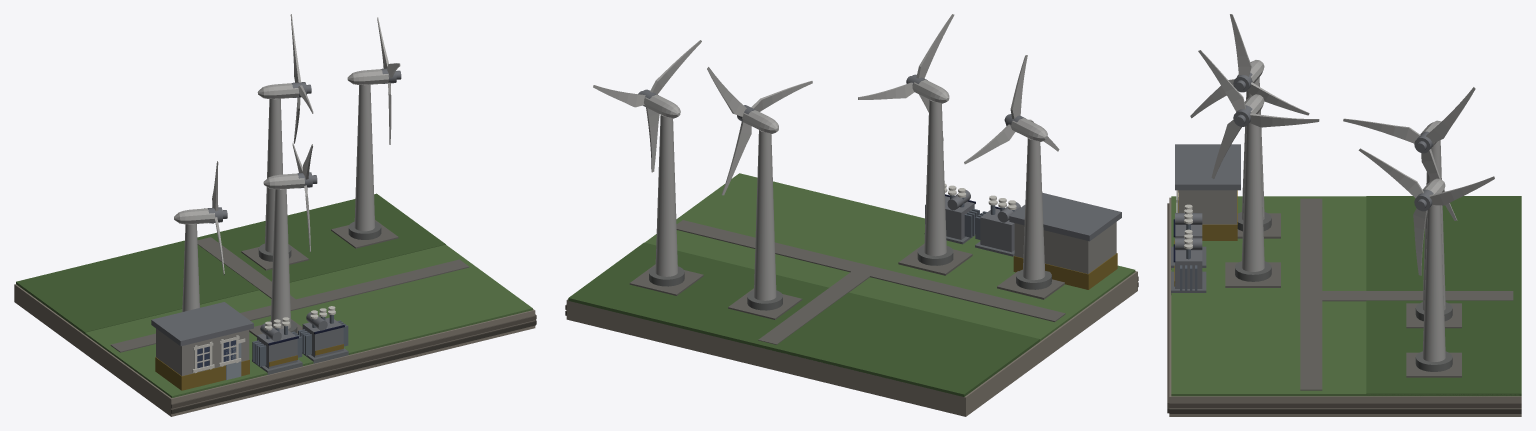
Rendered from onshore_wind_farm_lvl2.glb.
The picture shows the model from 3 angles, left to right: view 1: azimuth 30°, elevation 25°; view 2: azimuth 150°, elevation 25°; view 3: azimuth 270°, elevation 25°; orthographic projection. The views are drawn at different scales.
Parts seen in each view (by area): view 1: onshore_wind_farm; view 2: onshore_wind_farm; view 3: onshore_wind_farm.
Boxes of the visible parts, x1=… form: onshore_wind_farm: x1=14, y1=14, x2=536, y2=416; onshore_wind_farm: x1=565, y1=14, x2=1138, y2=416; onshore_wind_farm: x1=1167, y1=14, x2=1521, y2=416.
Bounding box in the file's own units: 0.9835 × 0.6208 × 0.7352.
